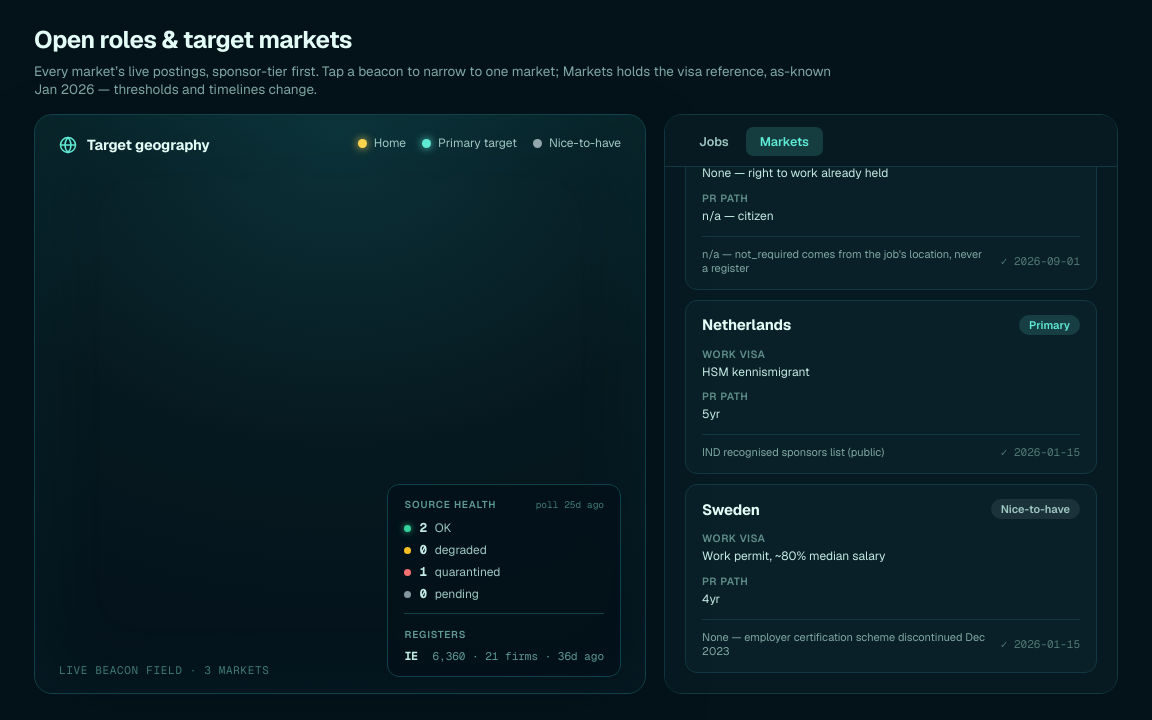
CountriesPage › picking a country from the stack shows its jobs + reference legend; back clears the filter
(page scrolled)
Click the button with aria-label "Sweden details".
click(731, 509)  # box [685,484,1097,673]
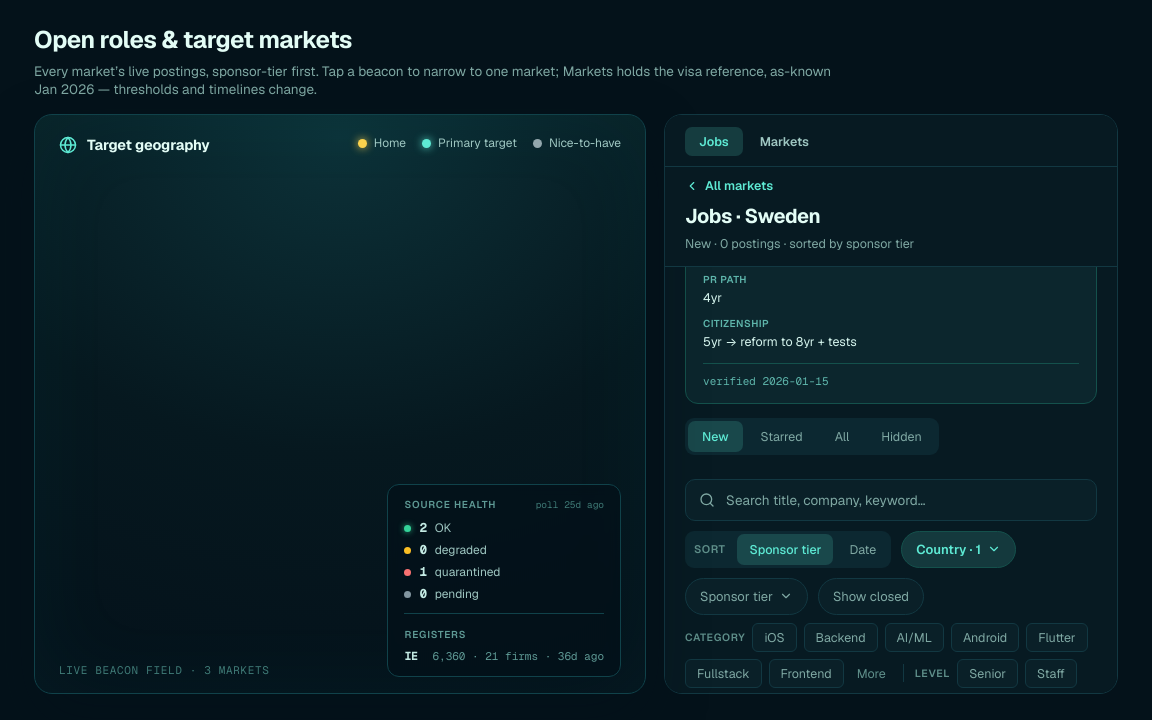
Now the heading "Jobs · Sweden" is shown, box [685,203,820,229]
Now the text "5yr → reform to 8yr + tests" is shown, box [703,333,857,350]
# Back clears the country filter and leaves the jobs panel showing every market.
Click the button "All markets".
click(729, 186)  # box [685,177,773,194]
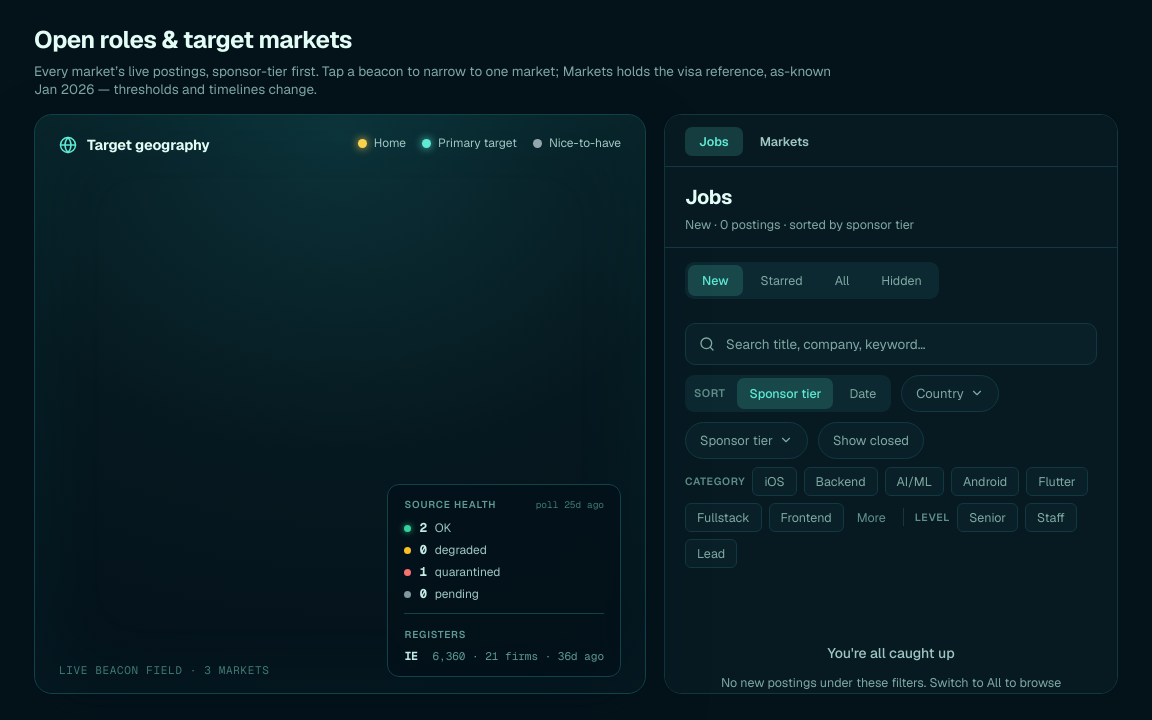
Now the heading "Jobs" is shown, box [685,184,732,210]
Now the text "reform to 8yr" is gone
